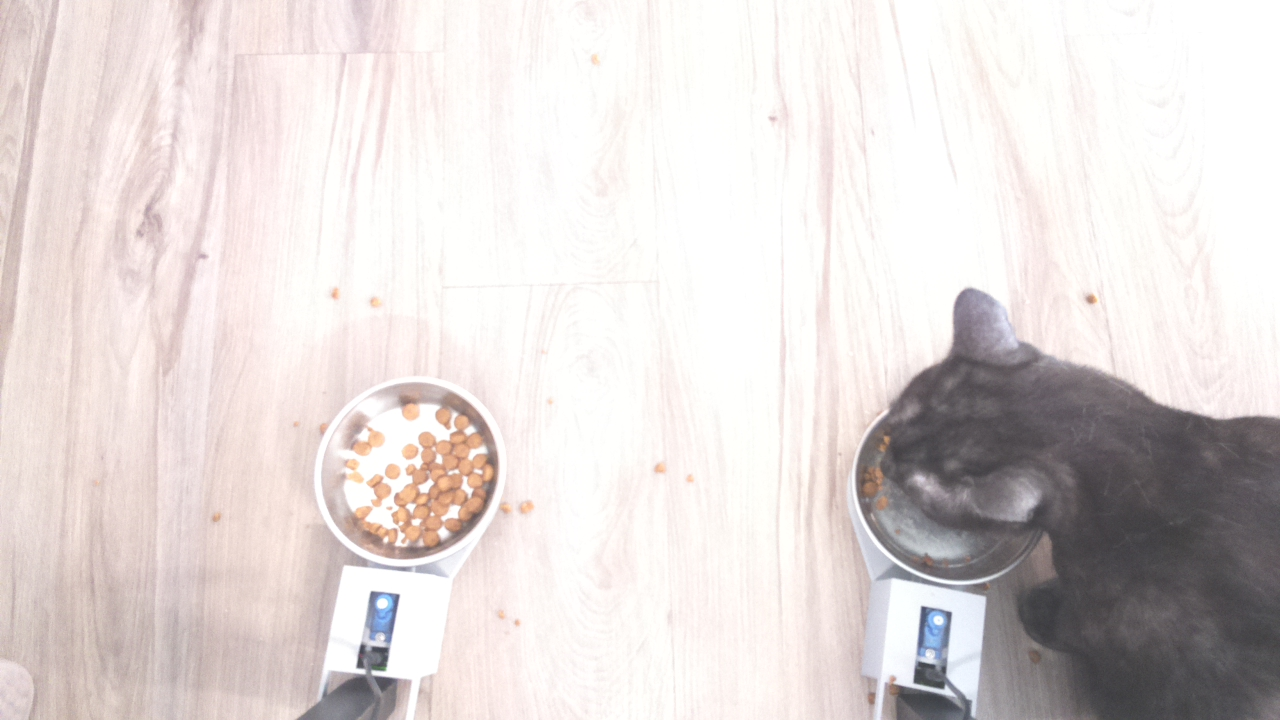open_bowl: (313, 369, 505, 569)
saki_eating: (857, 277, 1105, 592)
